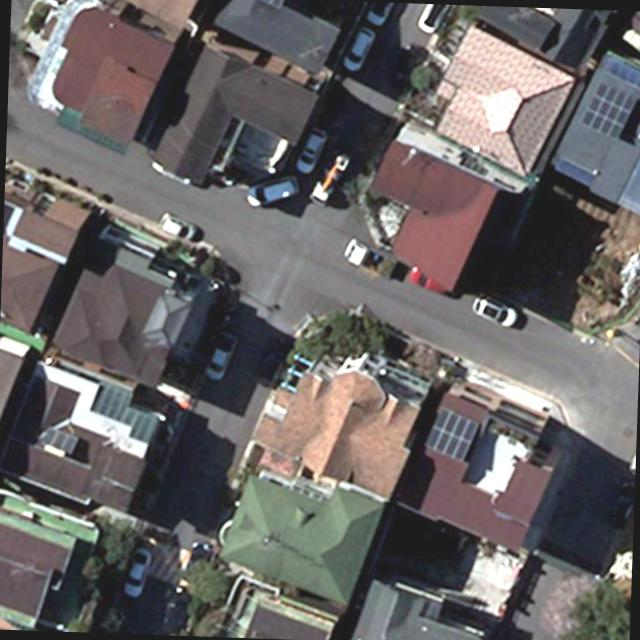solar: (580, 73, 640, 141), (422, 404, 484, 464), (40, 424, 79, 458)
